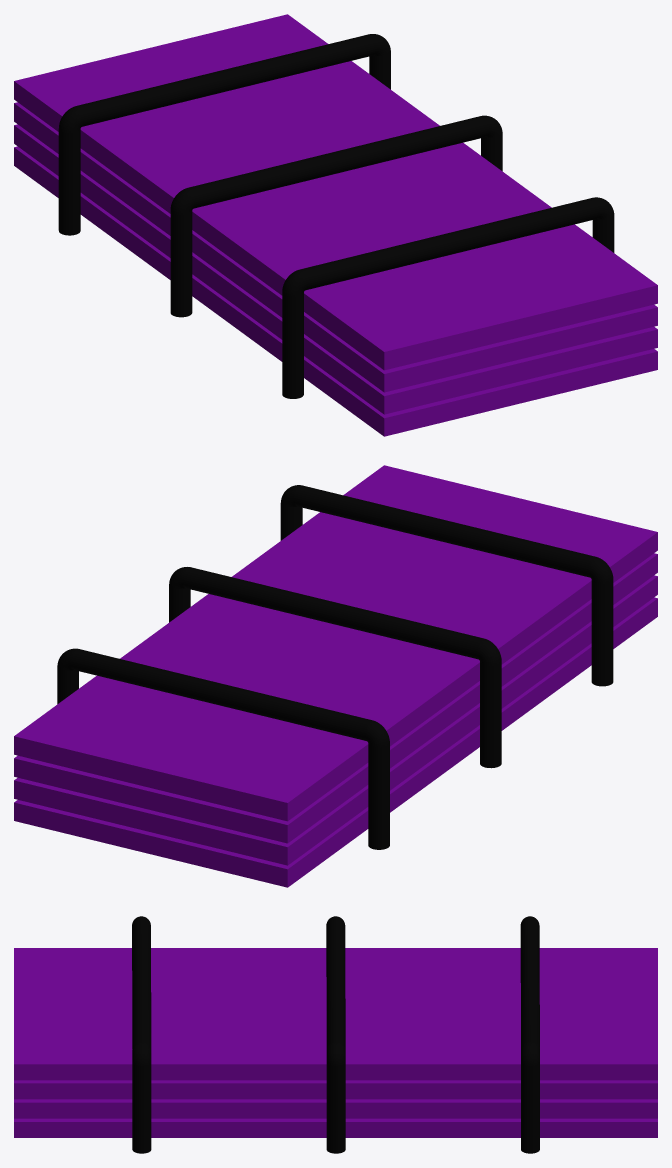
Rendered from BatteryLevel4.fbx.
3 views of the same model, one above another, from view 1: azimuth 30°, elevation 25°; view 2: azimuth 150°, elevation 25°; view 3: azimuth 270°, elevation 25° (orthographic). The views are drawn at different scales.
Parts seen in each view (by area): view 1: BatteryLevel4; view 2: BatteryLevel4; view 3: BatteryLevel4.
Boxes of the visible parts, box(x1,y1,x2,y2) form: BatteryLevel4: box(14, 14, 657, 436); BatteryLevel4: box(14, 465, 657, 887); BatteryLevel4: box(14, 916, 657, 1153).
Size of the model in its own units: 51.46 by 18.22 by 100.
